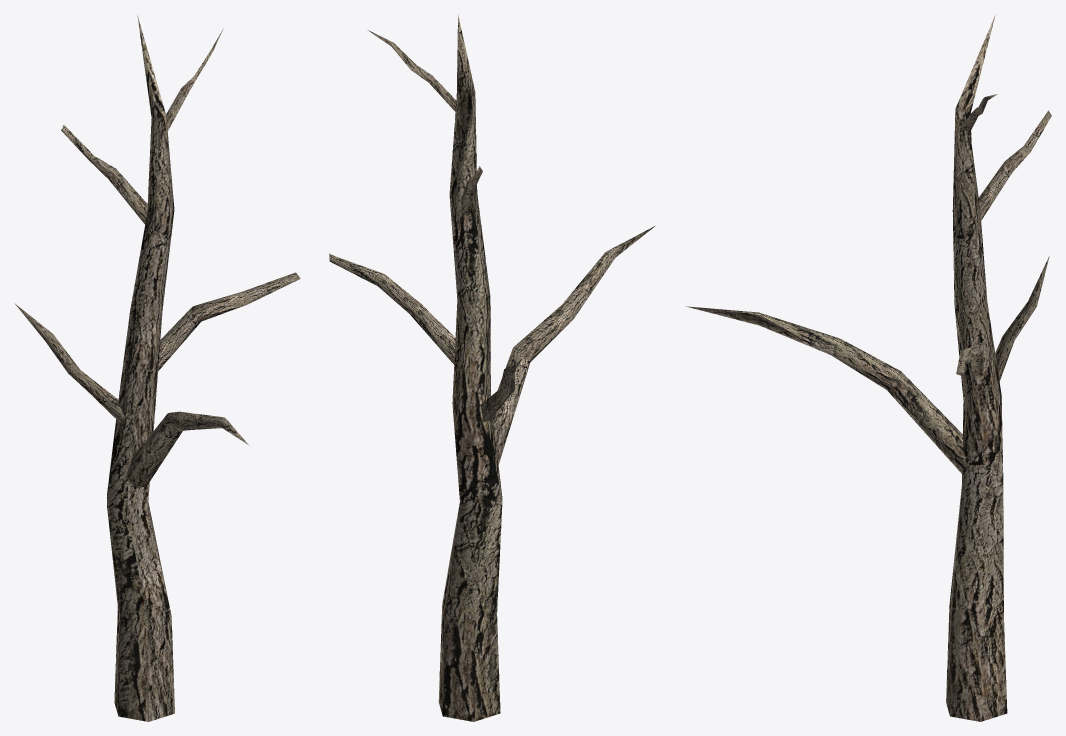
Rendered from TreeBig2_LOD1.FBX.
The picture shows the model from 3 angles, left to right: view 1: azimuth 30°, elevation 25°; view 2: azimuth 150°, elevation 25°; view 3: azimuth 270°, elevation 25°; orthographic projection.
Parts seen in each view (by area): view 1: objdefault; view 2: objdefault; view 3: objdefault.
Part boxes in pixels (x1,y1,x2,y2): objdefault: (15,15,300,721); objdefault: (329,14,654,721); objdefault: (686,15,1051,721).
Bounding box in the file's own units: 11.7 × 31.94 × 15.28.
Materials: 1 (1 with a texture image).
